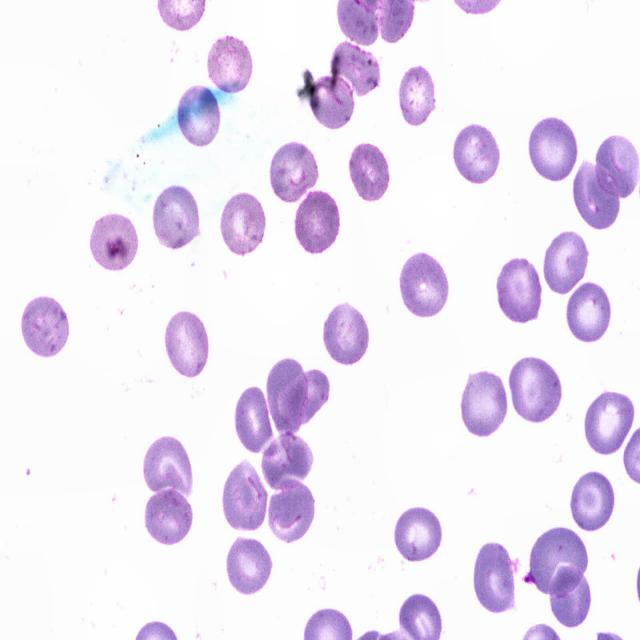red blood cell: (527, 524, 587, 598), (506, 354, 565, 424), (527, 115, 582, 185), (581, 389, 638, 456), (396, 252, 450, 322), (17, 295, 73, 362), (572, 159, 622, 232), (470, 540, 518, 616), (142, 436, 194, 506), (495, 254, 544, 328), (459, 371, 510, 440), (267, 140, 323, 202), (542, 226, 590, 298), (150, 183, 203, 248), (223, 534, 276, 598), (218, 192, 270, 257), (164, 310, 212, 380), (222, 459, 268, 532), (266, 357, 309, 435), (86, 211, 140, 273), (321, 302, 372, 367), (450, 124, 504, 185), (294, 191, 344, 255), (277, 368, 330, 428), (566, 280, 614, 344), (204, 36, 256, 94), (262, 434, 314, 492), (143, 489, 194, 548), (269, 483, 316, 546), (594, 136, 640, 200), (233, 387, 276, 455), (571, 470, 618, 532), (329, 42, 381, 98), (394, 64, 438, 130), (549, 563, 593, 629), (176, 86, 223, 147), (392, 507, 442, 563), (309, 75, 356, 132), (346, 143, 391, 201)
